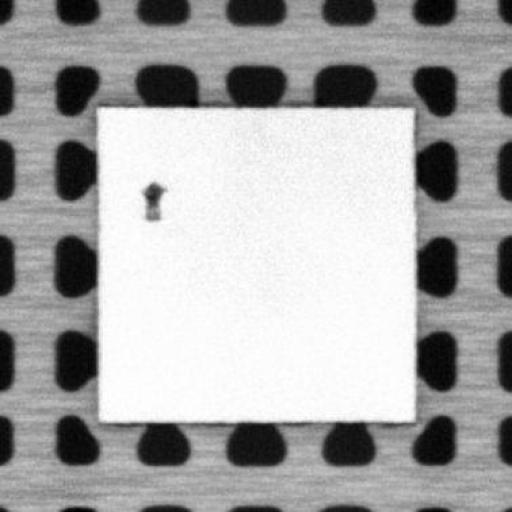DIE_INK: (140, 178, 166, 223)
